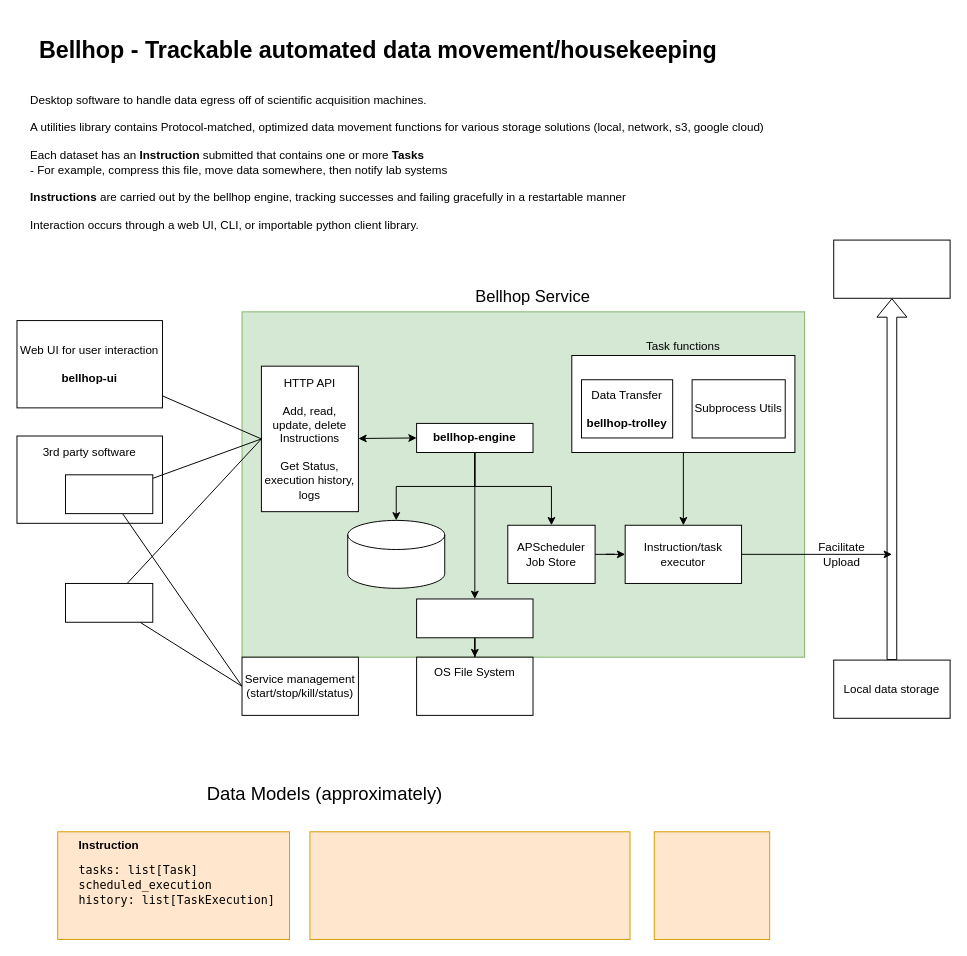
This 967x956 diagram has some shape labels left out. Each missing label, with the centre of its shape:
"bellhop-client CLI" belongs at [109,602].
"bellhop-client library" belongs at [109,494].
"Database Instructions" belongs at [396,553].
"Remote data storage" belongs at [891,268].
"Sync to yaml files" belongs at [474,618].
"Task program # bellhop-trolley or path to exe arguments state" belongs at [469,885].
"TaskExecution success logs time_started time_ended" belongs at [711,885].
